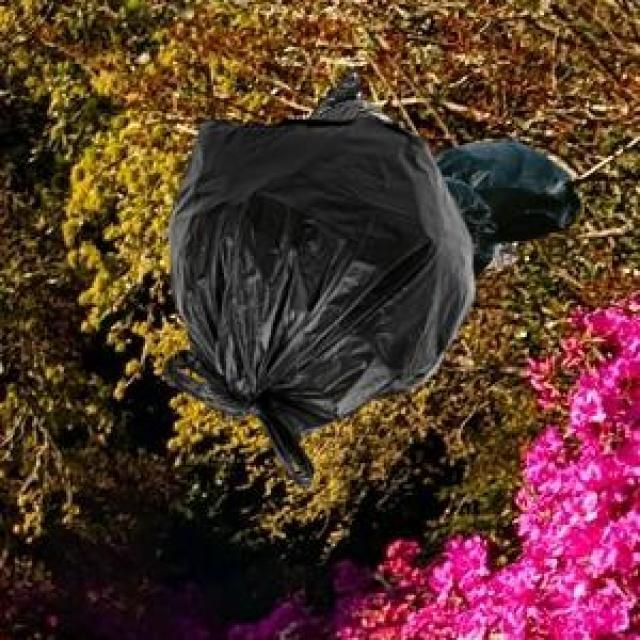waste: (166, 120, 472, 481)
